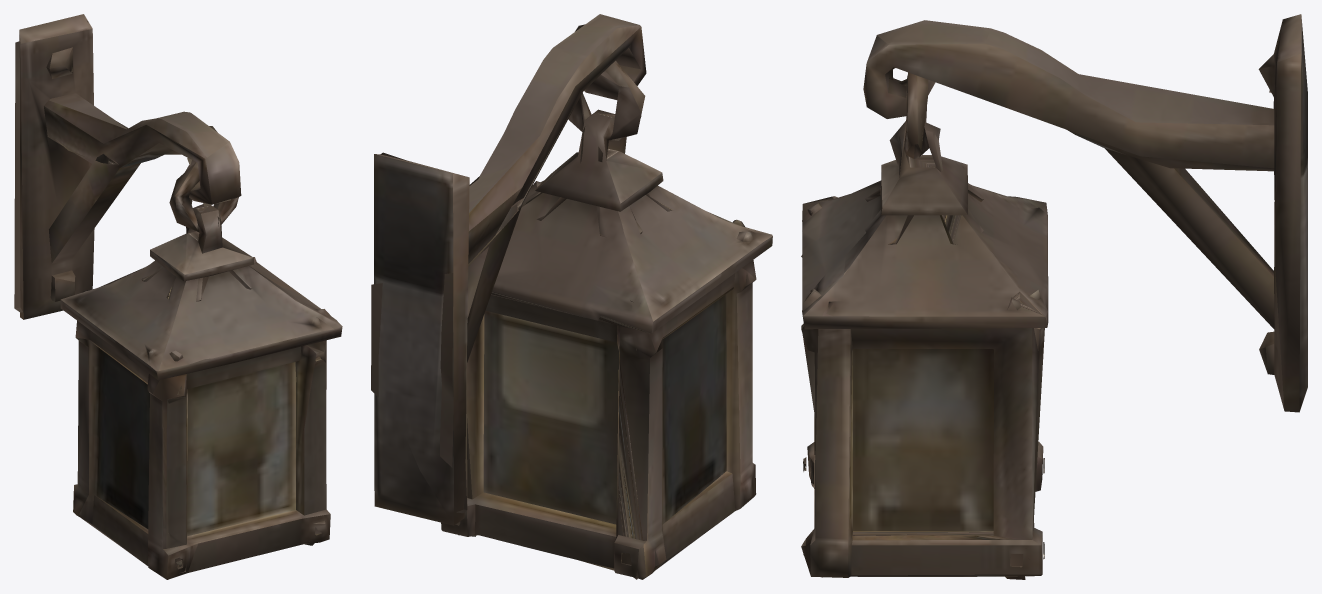
The picture shows the model from 3 angles, left to right: view 1: azimuth 30°, elevation 25°; view 2: azimuth 150°, elevation 25°; view 3: azimuth 270°, elevation 25°; orthographic projection. The views are drawn at different scales.
Visible parts, largest first — view 1: geometry_0; view 2: geometry_0; view 3: geometry_0.
Boxes of the visible parts, x1,y1,x2,y2 form: geometry_0: (14, 14, 342, 579); geometry_0: (371, 14, 772, 579); geometry_0: (801, 14, 1307, 579).
Size of the model in its own units: 0.2651 by 0.5491 by 0.4978.
Materials: 1 (1 with a texture image).
